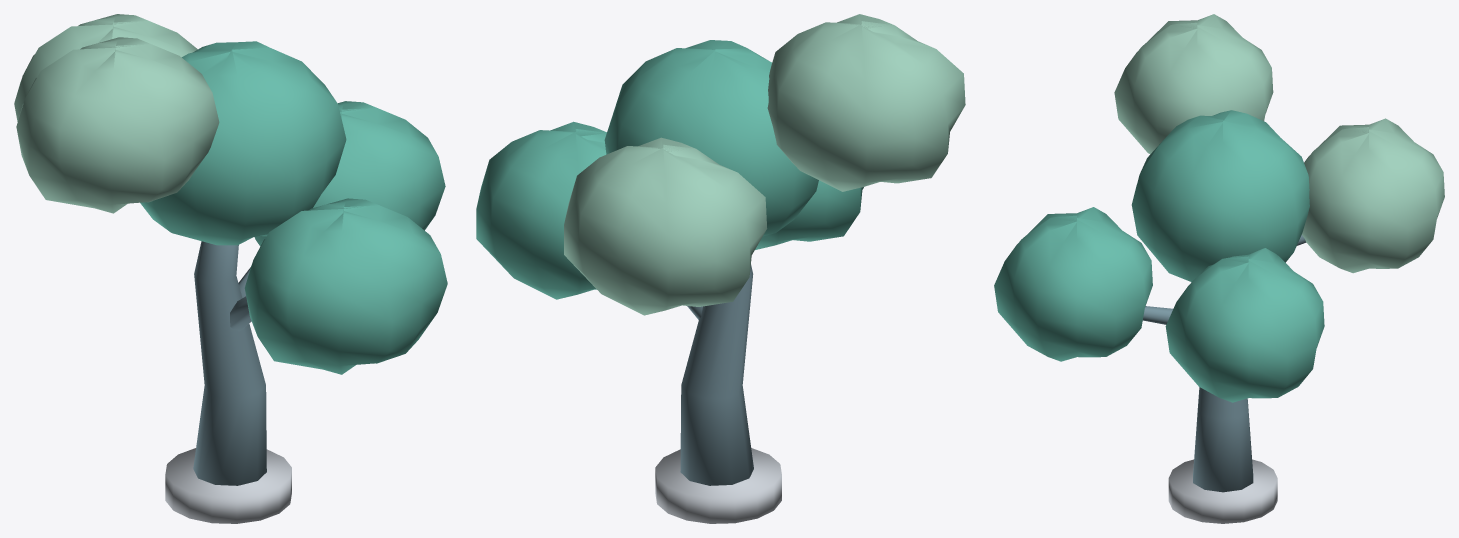
Rendered from can_jade_bonsai.glb.
The picture shows the model from 3 angles, left to right: view 1: azimuth 30°, elevation 25°; view 2: azimuth 150°, elevation 25°; view 3: azimuth 270°, elevation 25°; orthographic projection. The views are drawn at different scales.
Visible parts, largest first — view 1: CAN_jade_bonsai_crown_3, CAN_jade_bonsai_crown_2, CAN_jade_bonsai_crown_center, CAN_jade_bonsai_trunk, CAN_jade_bonsai_crown_0, CAN_jade_bonsai_root_collar, CAN_jade_bonsai_crown_1, CAN_jade_bonsai_branch_3; view 2: CAN_jade_bonsai_crown_1, CAN_jade_bonsai_crown_2, CAN_jade_bonsai_crown_center, CAN_jade_bonsai_crown_0, CAN_jade_bonsai_trunk, CAN_jade_bonsai_root_collar, CAN_jade_bonsai_crown_3; view 3: CAN_jade_bonsai_crown_center, CAN_jade_bonsai_crown_3, CAN_jade_bonsai_crown_0, CAN_jade_bonsai_crown_1, CAN_jade_bonsai_crown_2, CAN_jade_bonsai_trunk, CAN_jade_bonsai_root_collar.
Part boxes in pixels (x1,y1,x2,y2): CAN_jade_bonsai_crown_3: (244, 198, 447, 374); CAN_jade_bonsai_crown_2: (16, 37, 219, 213); CAN_jade_bonsai_crown_center: (140, 41, 346, 245); CAN_jade_bonsai_trunk: (193, 241, 266, 485); CAN_jade_bonsai_crown_0: (254, 101, 445, 246); CAN_jade_bonsai_root_collar: (165, 448, 291, 523); CAN_jade_bonsai_crown_1: (14, 14, 197, 121); CAN_jade_bonsai_branch_3: (230, 296, 251, 331); CAN_jade_bonsai_crown_1: (564, 137, 767, 315); CAN_jade_bonsai_crown_2: (767, 14, 965, 191); CAN_jade_bonsai_crown_center: (604, 40, 818, 236); CAN_jade_bonsai_crown_0: (476, 121, 606, 299); CAN_jade_bonsai_trunk: (680, 265, 753, 485); CAN_jade_bonsai_root_collar: (655, 448, 781, 523); CAN_jade_bonsai_crown_3: (755, 180, 863, 249); CAN_jade_bonsai_crown_center: (1131, 110, 1309, 281); CAN_jade_bonsai_crown_3: (994, 207, 1152, 361); CAN_jade_bonsai_crown_0: (1165, 248, 1324, 402); CAN_jade_bonsai_crown_1: (1302, 118, 1444, 273); CAN_jade_bonsai_crown_2: (1114, 14, 1273, 154); CAN_jade_bonsai_trunk: (1193, 387, 1253, 492); CAN_jade_bonsai_root_collar: (1168, 459, 1277, 523).
Size of the model in its own units: 2.61 by 2.83 by 2.72.
